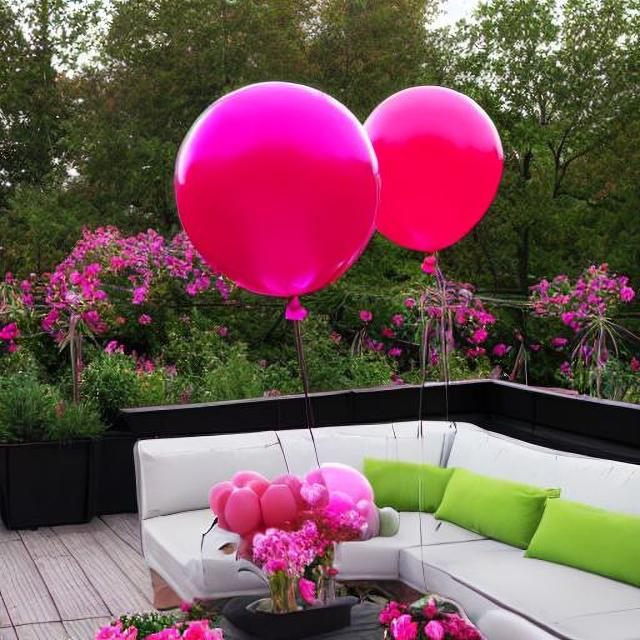balloon: (158, 67, 530, 330)
